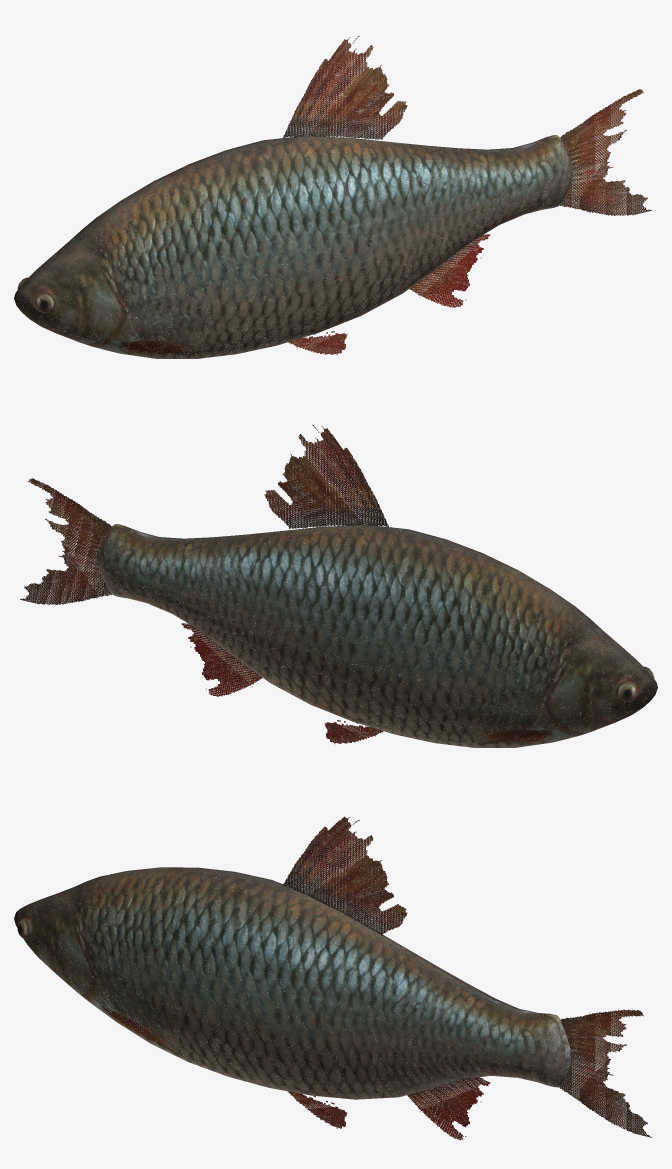
File: counter-fish.glb
3 views of the same model, one above another, from view 1: azimuth 30°, elevation 25°; view 2: azimuth 150°, elevation 25°; view 3: azimuth 330°, elevation 25° (orthographic).
Visible parts, largest first — view 1: FISH_Combined; view 2: FISH_Combined; view 3: FISH_Combined.
Boxes of the visible parts, x1=… form: FISH_Combined: x1=14, y1=36, x2=651, y2=358; FISH_Combined: x1=20, y1=425, x2=657, y2=747; FISH_Combined: x1=14, y1=816, x2=651, y2=1140.
Size of the model in its own units: 0.7623 by 0.3741 by 0.0885.
Materials: 1 (1 with a texture image).
